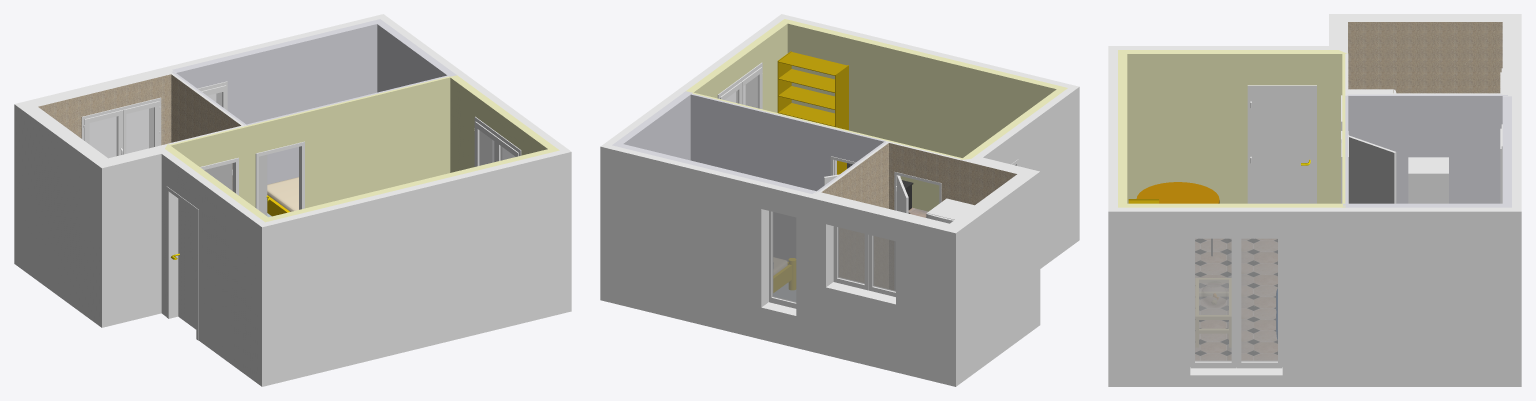
The model's file is home.glb.
The picture shows the model from 3 angles, left to right: view 1: azimuth 30°, elevation 25°; view 2: azimuth 150°, elevation 25°; view 3: azimuth 270°, elevation 25°; orthographic projection. The views are drawn at different scales.
Parts seen in each view (by area): view 1: wall_3_4, wall_9_3, wall_0_4, wall_7_4, wall_2_4, wall_1_4, wall_6_4, wall_8_3, wall_4_3, wall_5_4, wall_10_4, Door_9 (+24 smaller); view 2: wall_7_3, wall_3_3, wall_8_4, wall_0_4, wall_9_4, wall_2_4, wall_4_3, wall_10_3, wall_6_4, wall_5_4, Window_7, Double_small_window_1 (+32 smaller); view 3: wall_5_3, wall_6_3, wall_2_3, wall_4_4, wall_0_3, Door_9, room_0_1, Double_French_window_8, Double_French_window_13, Double_French_window_1, Open_door_9, Double_French_window_7 (+22 smaller).
Boxes of the visible parts, <box> form: wall_3_4: <box>262,152,571,386</box>; wall_9_3: <box>248,77,450,208</box>; wall_0_4: <box>14,104,101,327</box>; wall_7_4: <box>176,24,377,184</box>; wall_2_4: <box>161,154,261,386</box>; wall_1_4: <box>102,154,161,327</box>; wall_6_4: <box>450,78,547,172</box>; wall_8_3: <box>38,74,171,145</box>; wall_4_3: <box>171,74,240,190</box>; wall_5_4: <box>377,24,446,92</box>; wall_10_4: <box>171,127,248,202</box>; Door_9: <box>178,198,196,329</box>; wall_7_3: <box>600,146,807,350</box>; wall_3_3: <box>787,23,1056,211</box>; wall_8_4: <box>808,197,955,386</box>; wall_0_4: <box>956,172,1040,386</box>; wall_9_4: <box>690,94,883,261</box>; wall_2_4: <box>983,87,1079,268</box>; wall_4_3: <box>821,143,888,288</box>; wall_10_3: <box>889,143,961,289</box>; wall_6_4: <box>694,24,787,112</box>; wall_5_4: <box>623,95,690,160</box>; Window_7: <box>772,212,796,302</box>; Double_small_window_1: <box>823,221,899,307</box>; wall_5_3: <box>1343,211,1521,386</box>; wall_6_3: <box>1108,211,1342,386</box>; wall_2_3: <box>1127,54,1342,203</box>; wall_4_4: <box>1348,96,1502,203</box>; wall_0_3: <box>1348,22,1502,93</box>; Door_9: <box>1251,89,1313,203</box>; room_0_1: <box>1195,239,1277,360</box>; Double_French_window_8: <box>1241,238,1277,361</box>; Double_French_window_13: <box>1195,238,1231,361</box>; Double_French_window_1: <box>1186,234,1286,379</box>; Open_door_9: <box>1349,135,1396,203</box>; Double_French_window_7: <box>1236,238,1282,368</box>.
Bounding box in the file's own units: 615 × 254 × 543.
29 materials, 3 textured.
